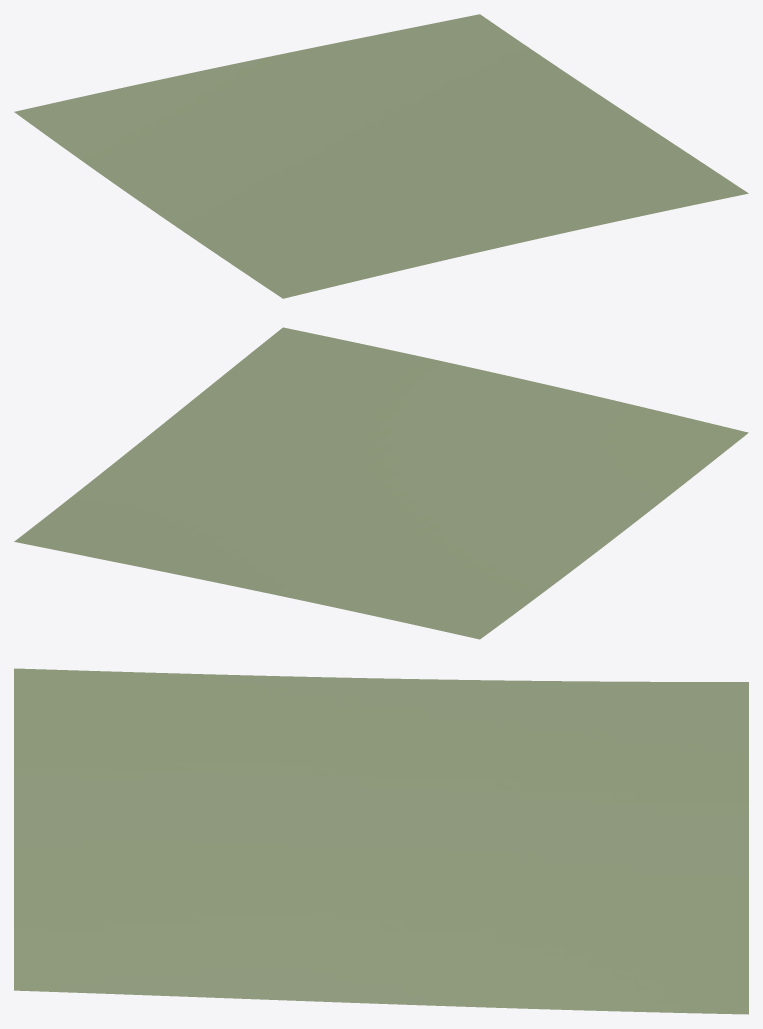
File: expanse-1-7.glb
3 views of the same model, one above another, from view 1: azimuth 30°, elevation 25°; view 2: azimuth 150°, elevation 25°; view 3: azimuth 270°, elevation 25° (orthographic). The views are drawn at different scales.
Parts seen in each view (by area): view 1: expanse-1-7; view 2: expanse-1-7; view 3: expanse-1-7.
Part boxes in pixels (x1=…): expanse-1-7: x1=14, y1=14, x2=748, y2=298; expanse-1-7: x1=14, y1=327, x2=748, y2=639; expanse-1-7: x1=14, y1=668, x2=748, y2=1014.
Bounding box in the file's own units: 256 × 13.6 × 256.
